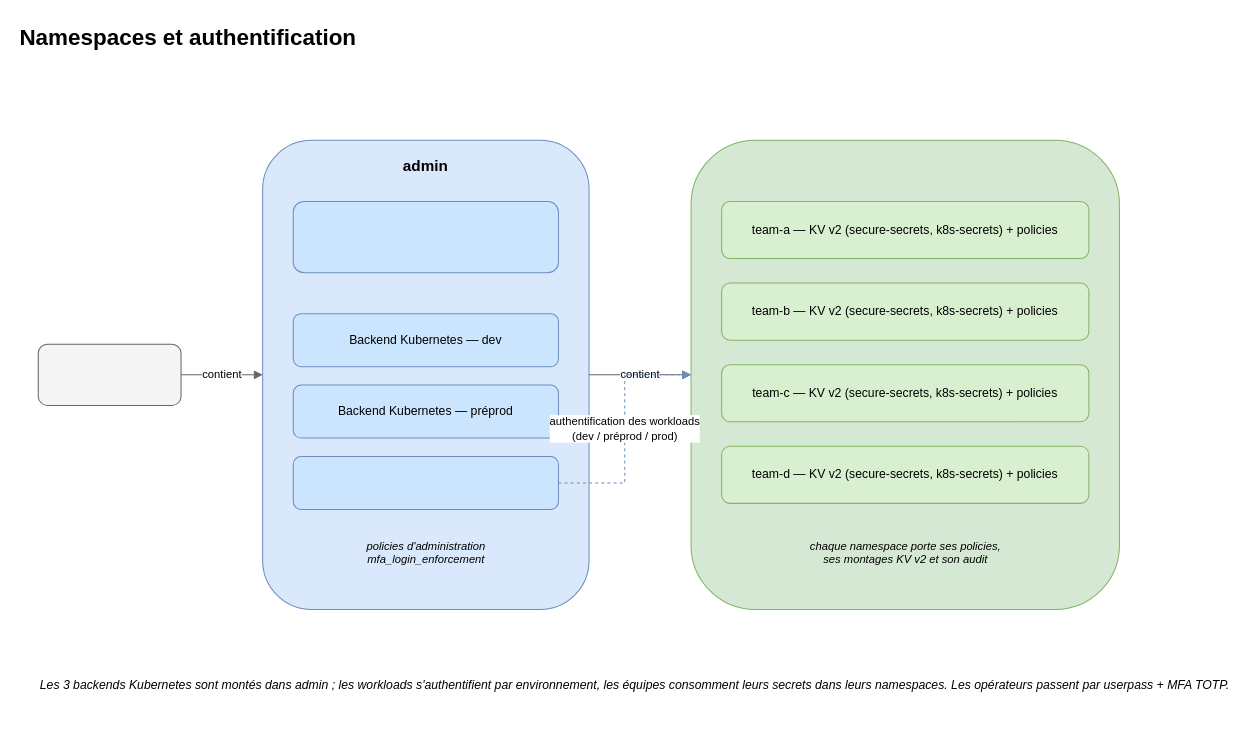
The diagram is 1246 pixels wide and 749 high, and some of its shapes have lost their labels. The shapes that lost their labels are listed below. From the top down, each one's box as (x1, y1, x2, y2) in pixels, then its label:
(292, 200, 558, 273): userpass + MFA TOTP (opérateurs)
(37, 343, 181, 405): root
(690, 139, 1119, 609): 4 namespaces d'équipes
(292, 455, 558, 509): Backend Kubernetes — prod
